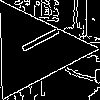I: (9, 24, 63, 60)
